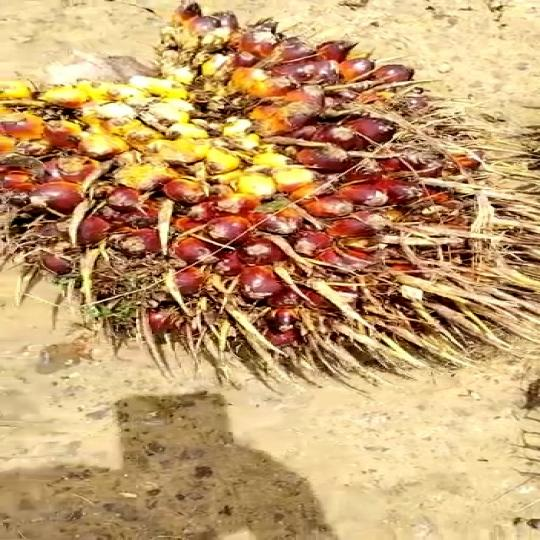masak: (0, 9, 540, 369)
